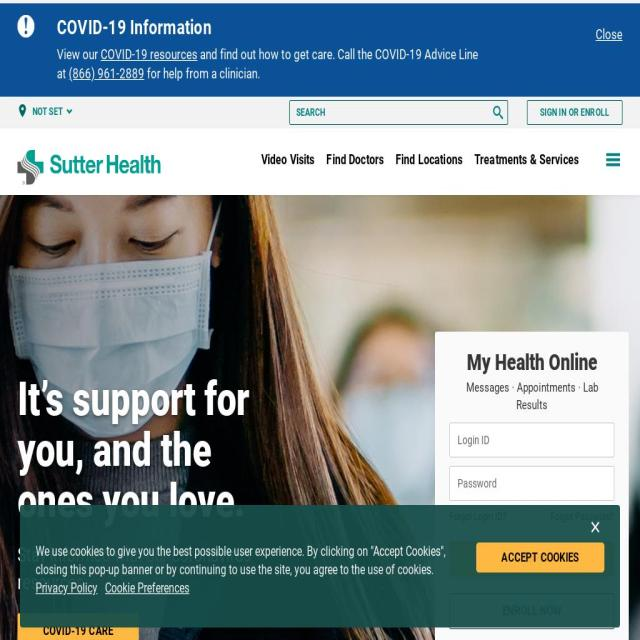button: (18, 141, 160, 194), (450, 540, 614, 577), (450, 593, 614, 629), (476, 542, 604, 572), (18, 613, 138, 640), (526, 100, 623, 125), (600, 140, 632, 178), (550, 508, 614, 524), (450, 508, 508, 524), (586, 509, 604, 543), (596, 25, 622, 44)
field: (450, 422, 614, 458), (450, 465, 614, 501), (290, 101, 490, 124)
heading: (18, 374, 290, 527), (57, 17, 485, 38), (450, 350, 614, 375)
image: (592, 522, 600, 533)
link: (474, 152, 580, 168), (100, 46, 198, 62), (105, 580, 189, 596), (69, 65, 144, 82), (396, 152, 463, 168), (36, 580, 98, 596), (326, 152, 384, 168), (260, 152, 314, 168)
text: (57, 46, 478, 82), (18, 542, 290, 596), (36, 544, 446, 578), (450, 378, 614, 414), (144, 65, 262, 82), (540, 107, 610, 118), (57, 46, 101, 62), (32, 106, 62, 117)
